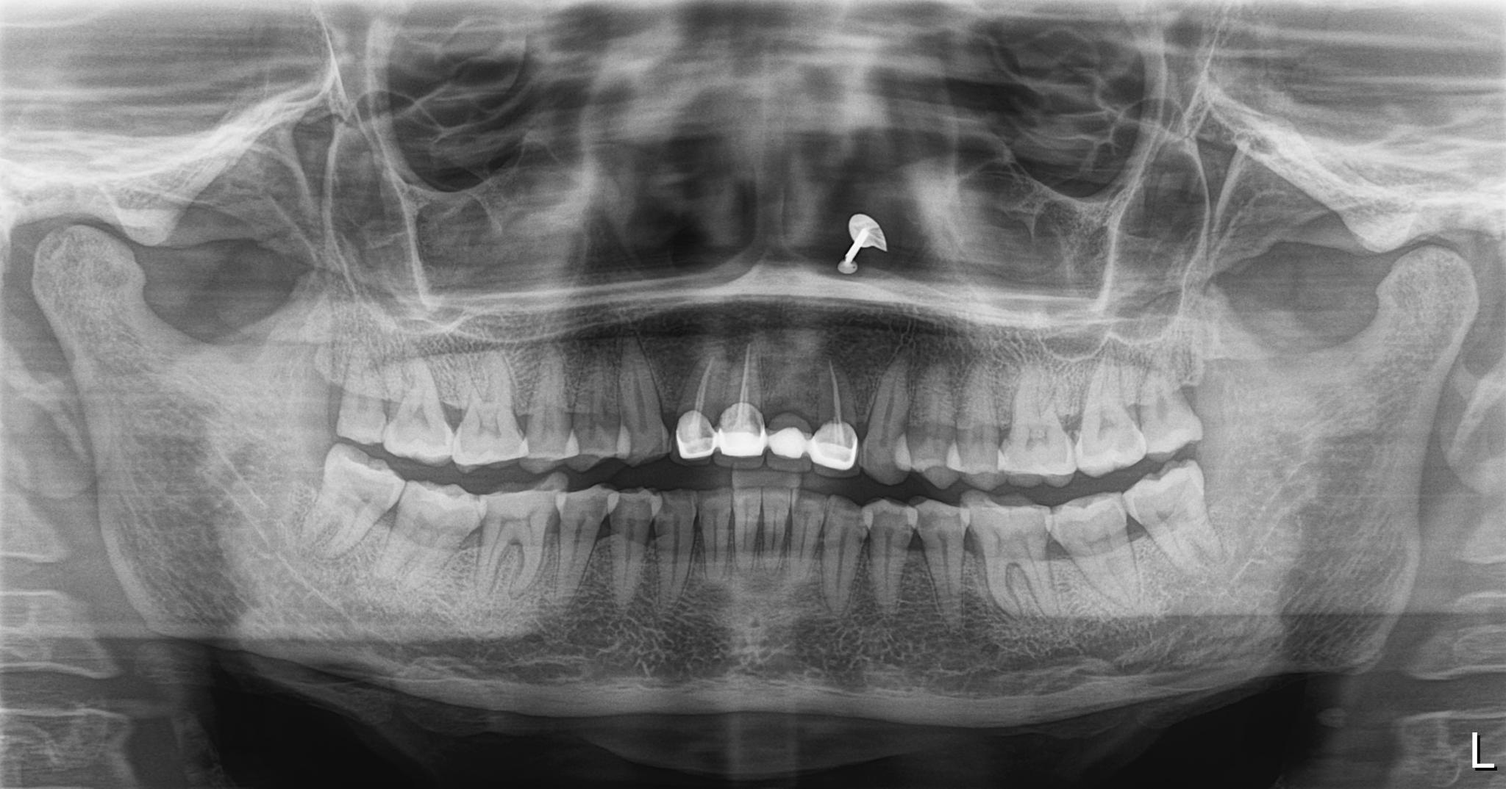Attrition: (489, 481, 563, 526), (961, 500, 1058, 532)
Endodontically Treated Tooth: (673, 347, 720, 474), (732, 347, 774, 462), (822, 367, 855, 471), (779, 358, 808, 472)
